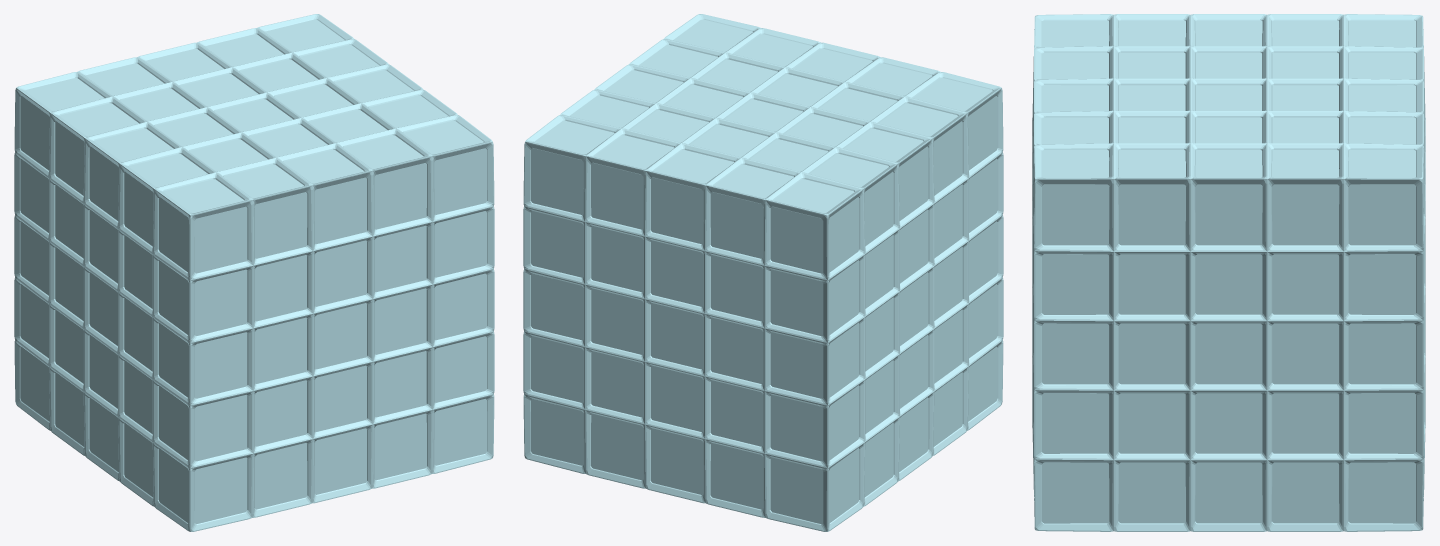
3 renders of one model, left to right at view 1: azimuth 30°, elevation 25°; view 2: azimuth 150°, elevation 25°; view 3: azimuth 270°, elevation 25°, orthographic. The views are drawn at different scales.
Visible parts, largest first — view 1: Cube_5; view 2: Cube_5; view 3: Cube_5.
Boxes of the visible parts, <box> form: Cube_5: <box>14,14,494,531</box>; Cube_5: <box>523,14,1003,531</box>; Cube_5: <box>1032,14,1425,531</box>.
Size of the model in its own units: 1.03 by 1.03 by 1.03.
